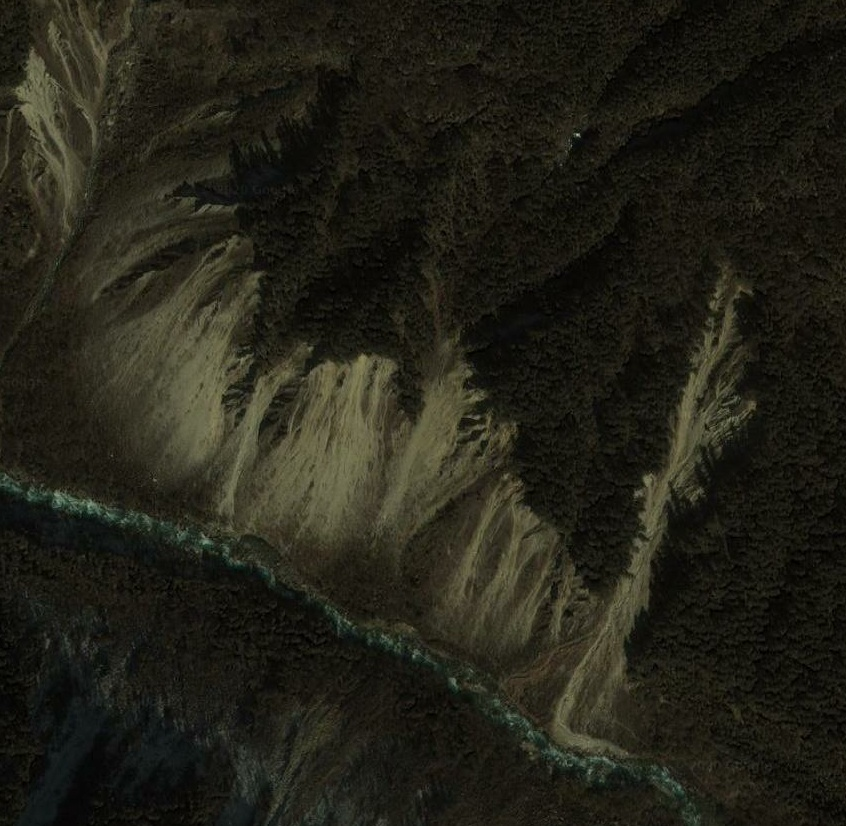slope: (18, 0, 567, 645), (503, 273, 760, 762)
